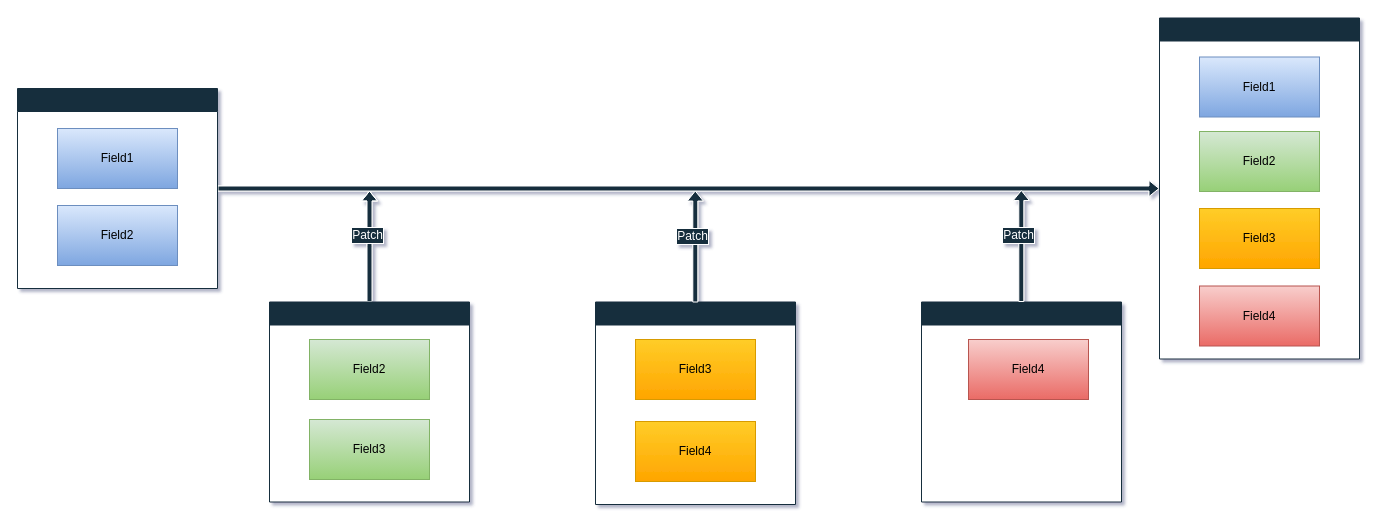
Image size: 1383x528. Some labels were removed from this diagram. Here are the shapes that lost their labels. From the top down, the box of each, then its label:
(16, 88, 218, 288): DefaultPackageSchema
(1158, 17, 1360, 359): Final PackageSchema
(268, 301, 470, 502): DefaultPackageSchema Patch
(594, 301, 796, 504): Request/Response SchemaPatch
(920, 301, 1122, 502): ShemaPatch from Package
